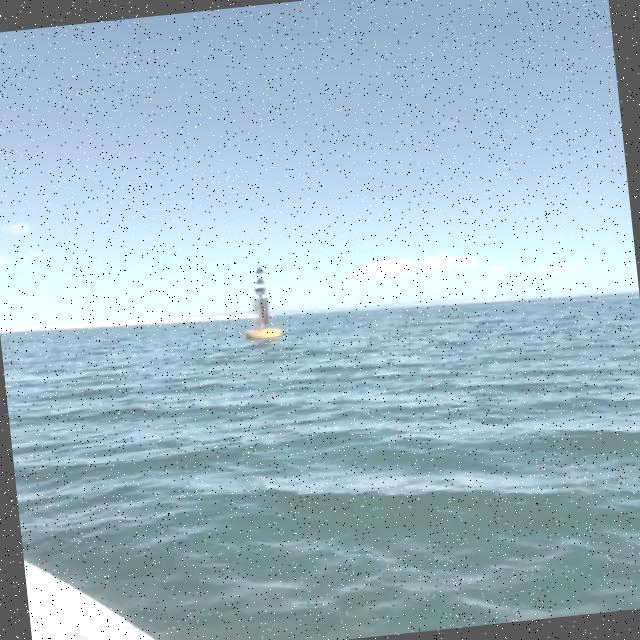marque: (237, 262, 291, 346)
